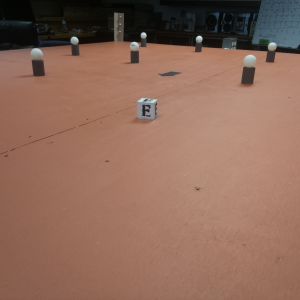blockE: (136, 98, 161, 121)
corner: (113, 12, 126, 43)
obstacle: (30, 49, 49, 80), (241, 55, 258, 86), (129, 42, 141, 63), (266, 43, 278, 64), (70, 37, 81, 57), (194, 35, 205, 54), (141, 33, 148, 48)
start: (157, 71, 183, 76)
